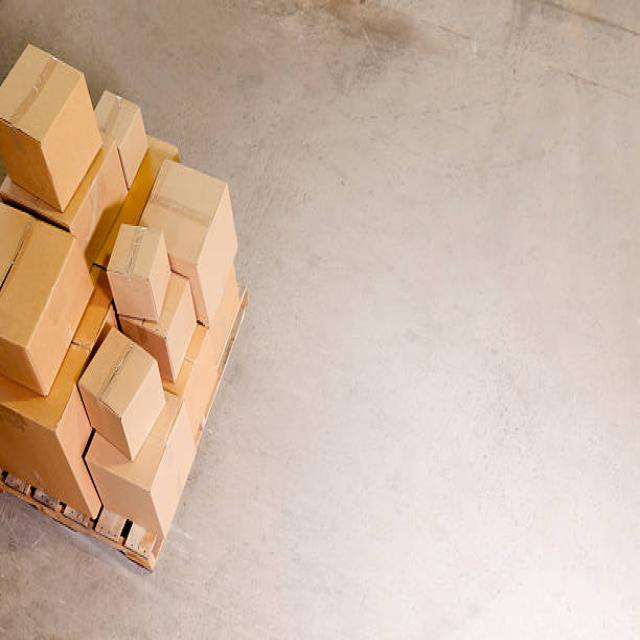Wooden-Pallets: (3, 468, 156, 578)
